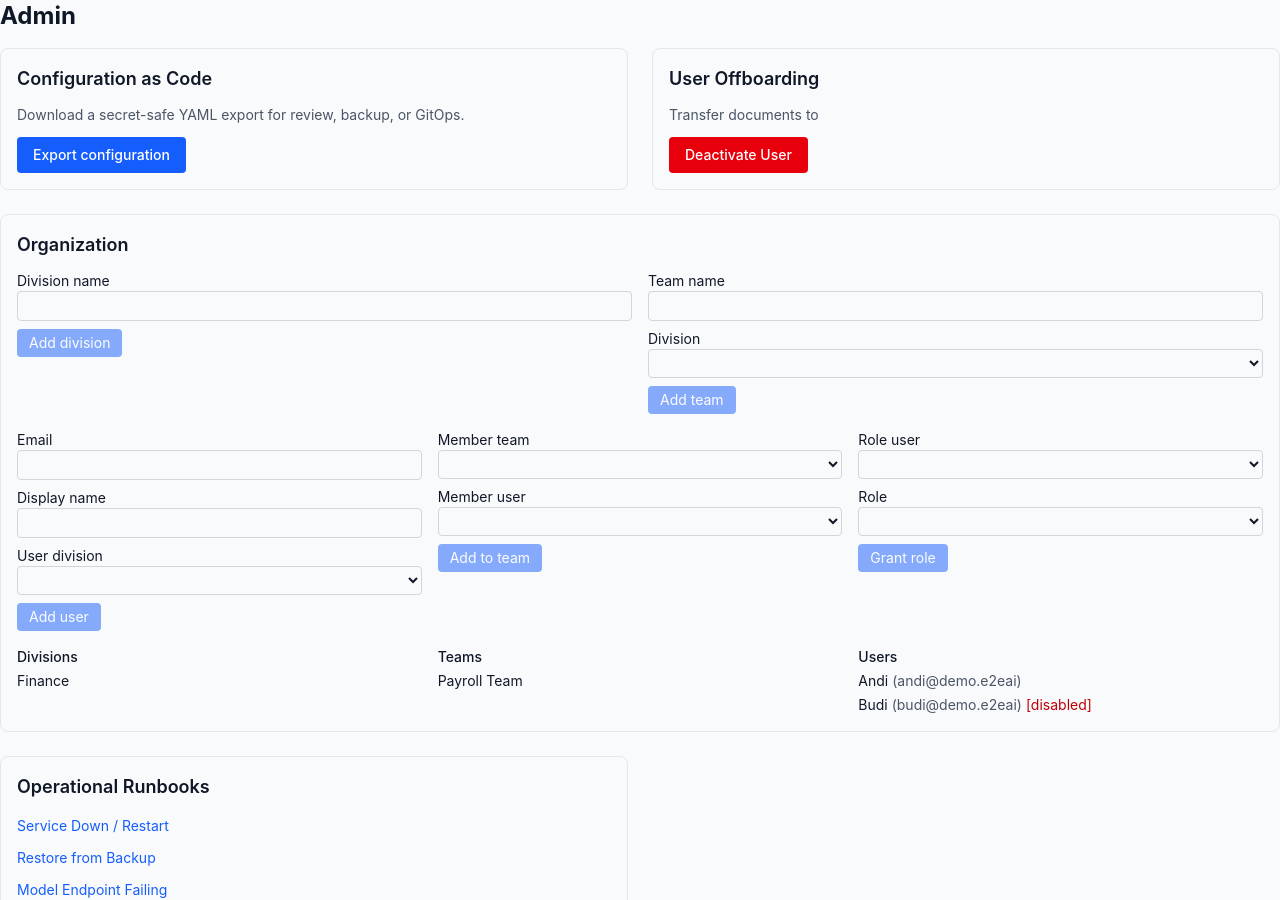
Test case: AdminScreen › shows a generic error without server text when deactivation fails
This screenshot has width=1280, height=900.
Click the button "Deactivate User" at (738, 155), box [669,137,808,173]
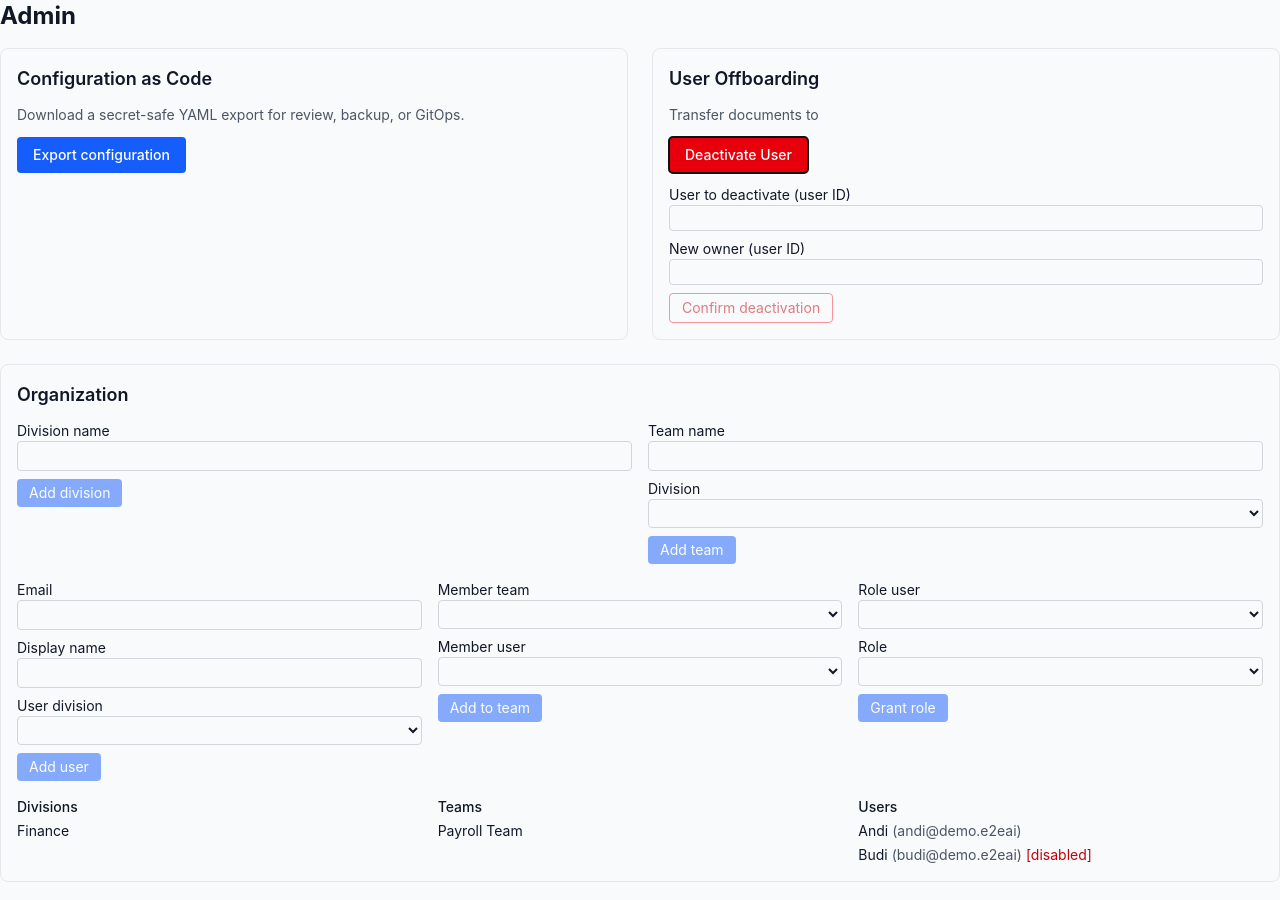
Type "3f2c8a52-1b7e-4c1d-9a55-0d2f6a9b7c11" into the field labelled "User to deactivate (user ID)" at (966, 218), box [669,205,1263,231]
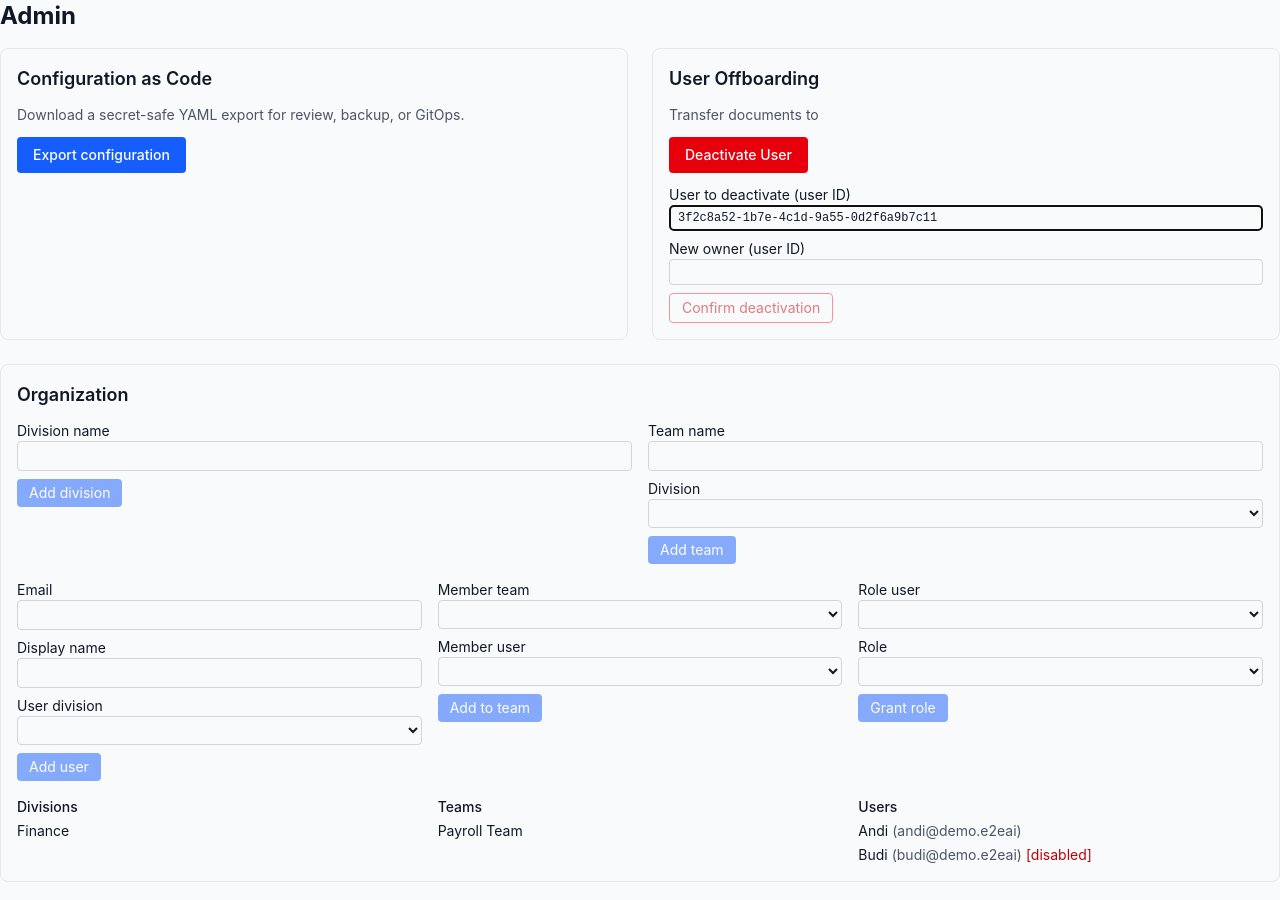
Type "9a1d4e07-2c3b-4f6a-8b10-5e7d9c0a1f22" into the field labelled "New owner (user ID)" at (966, 272), box [669,259,1263,285]
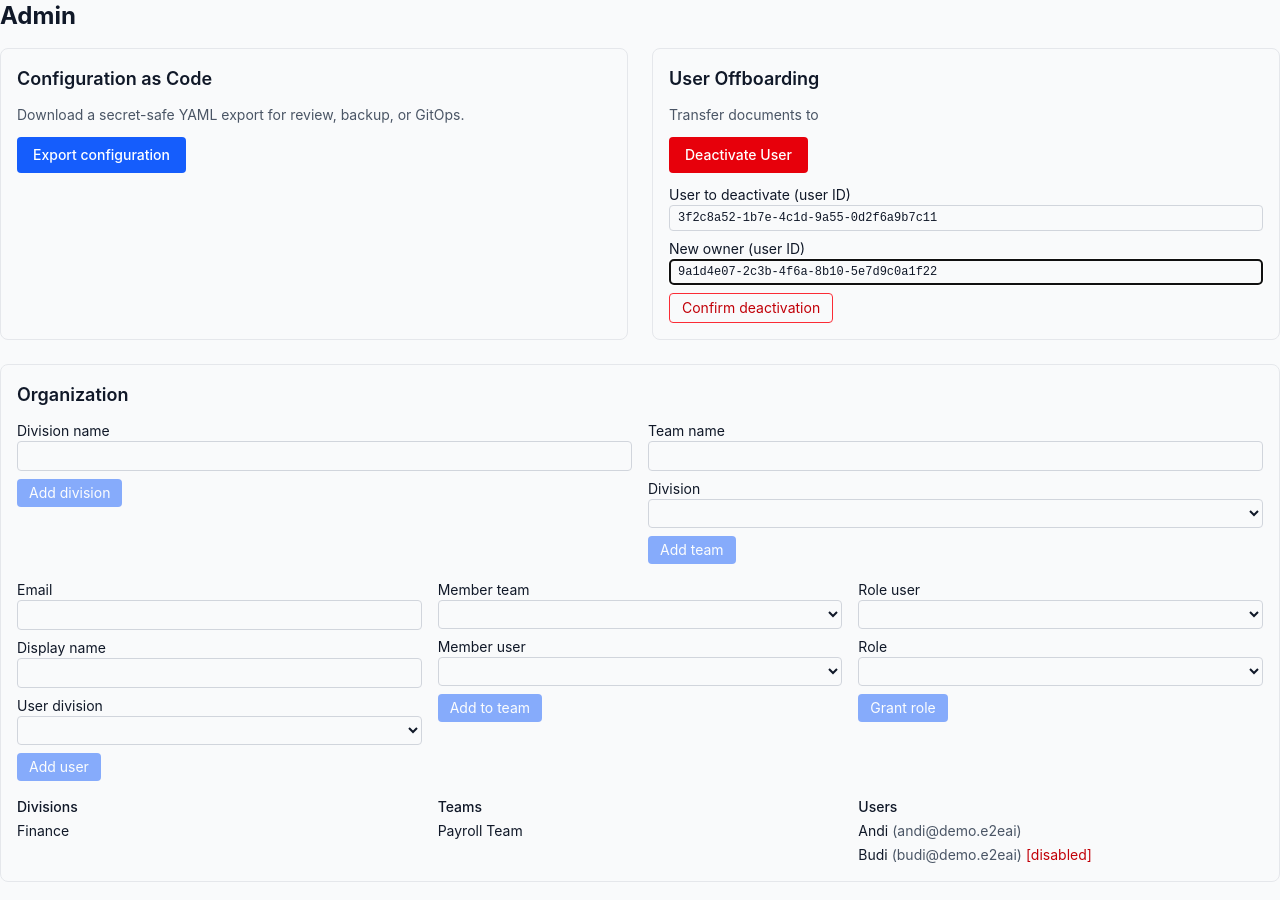
Click the button "Confirm deactivation" at (751, 308), box [669,293,833,323]
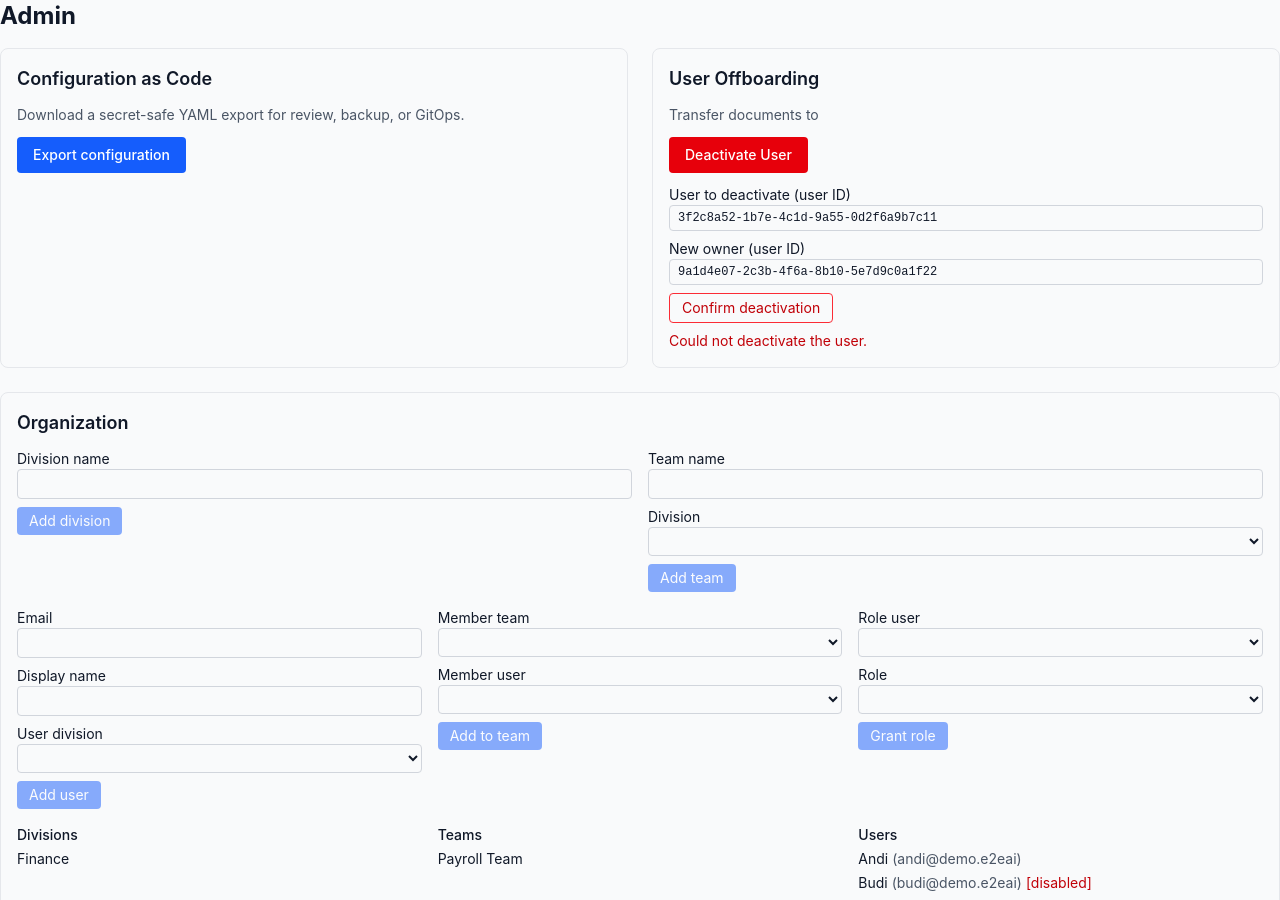
Expected: the text "Could not deactivate the user." is shown, [669,332,867,349]
